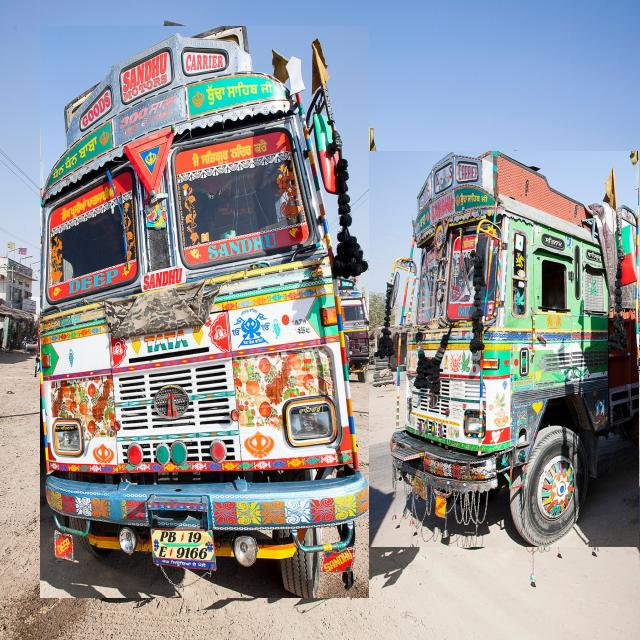truck: (40, 26, 369, 598), (369, 152, 639, 547)
